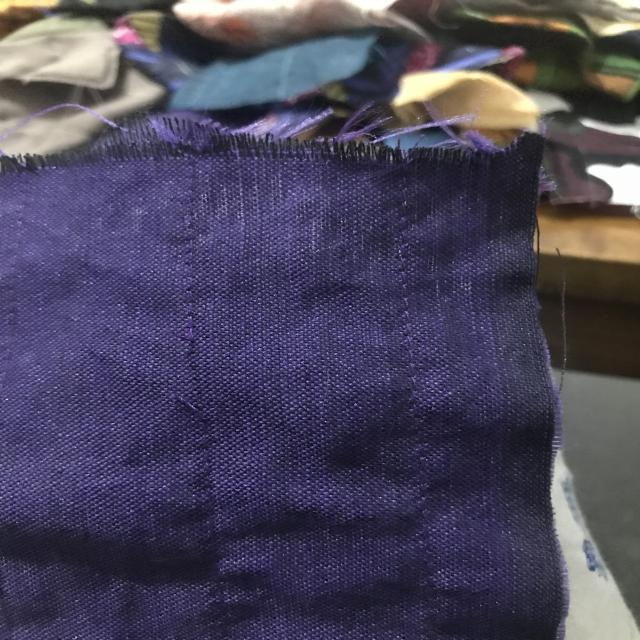broken: (155, 324, 235, 420)
